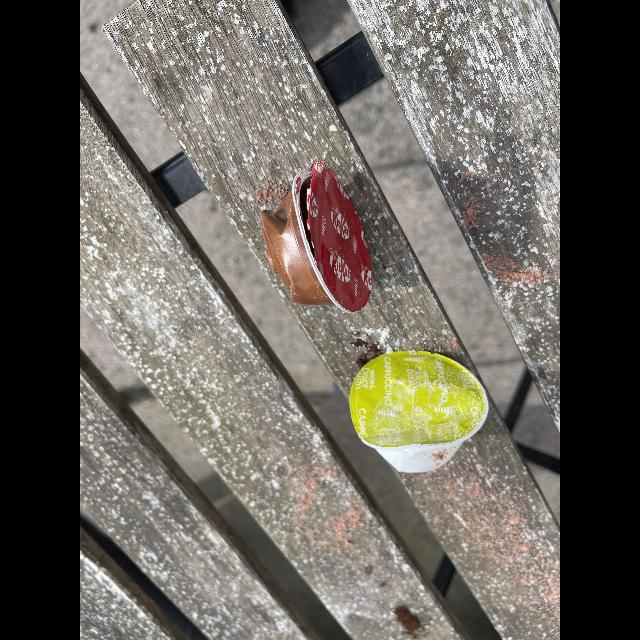damaged_capsule: (242, 146, 386, 322), (346, 346, 506, 482)
